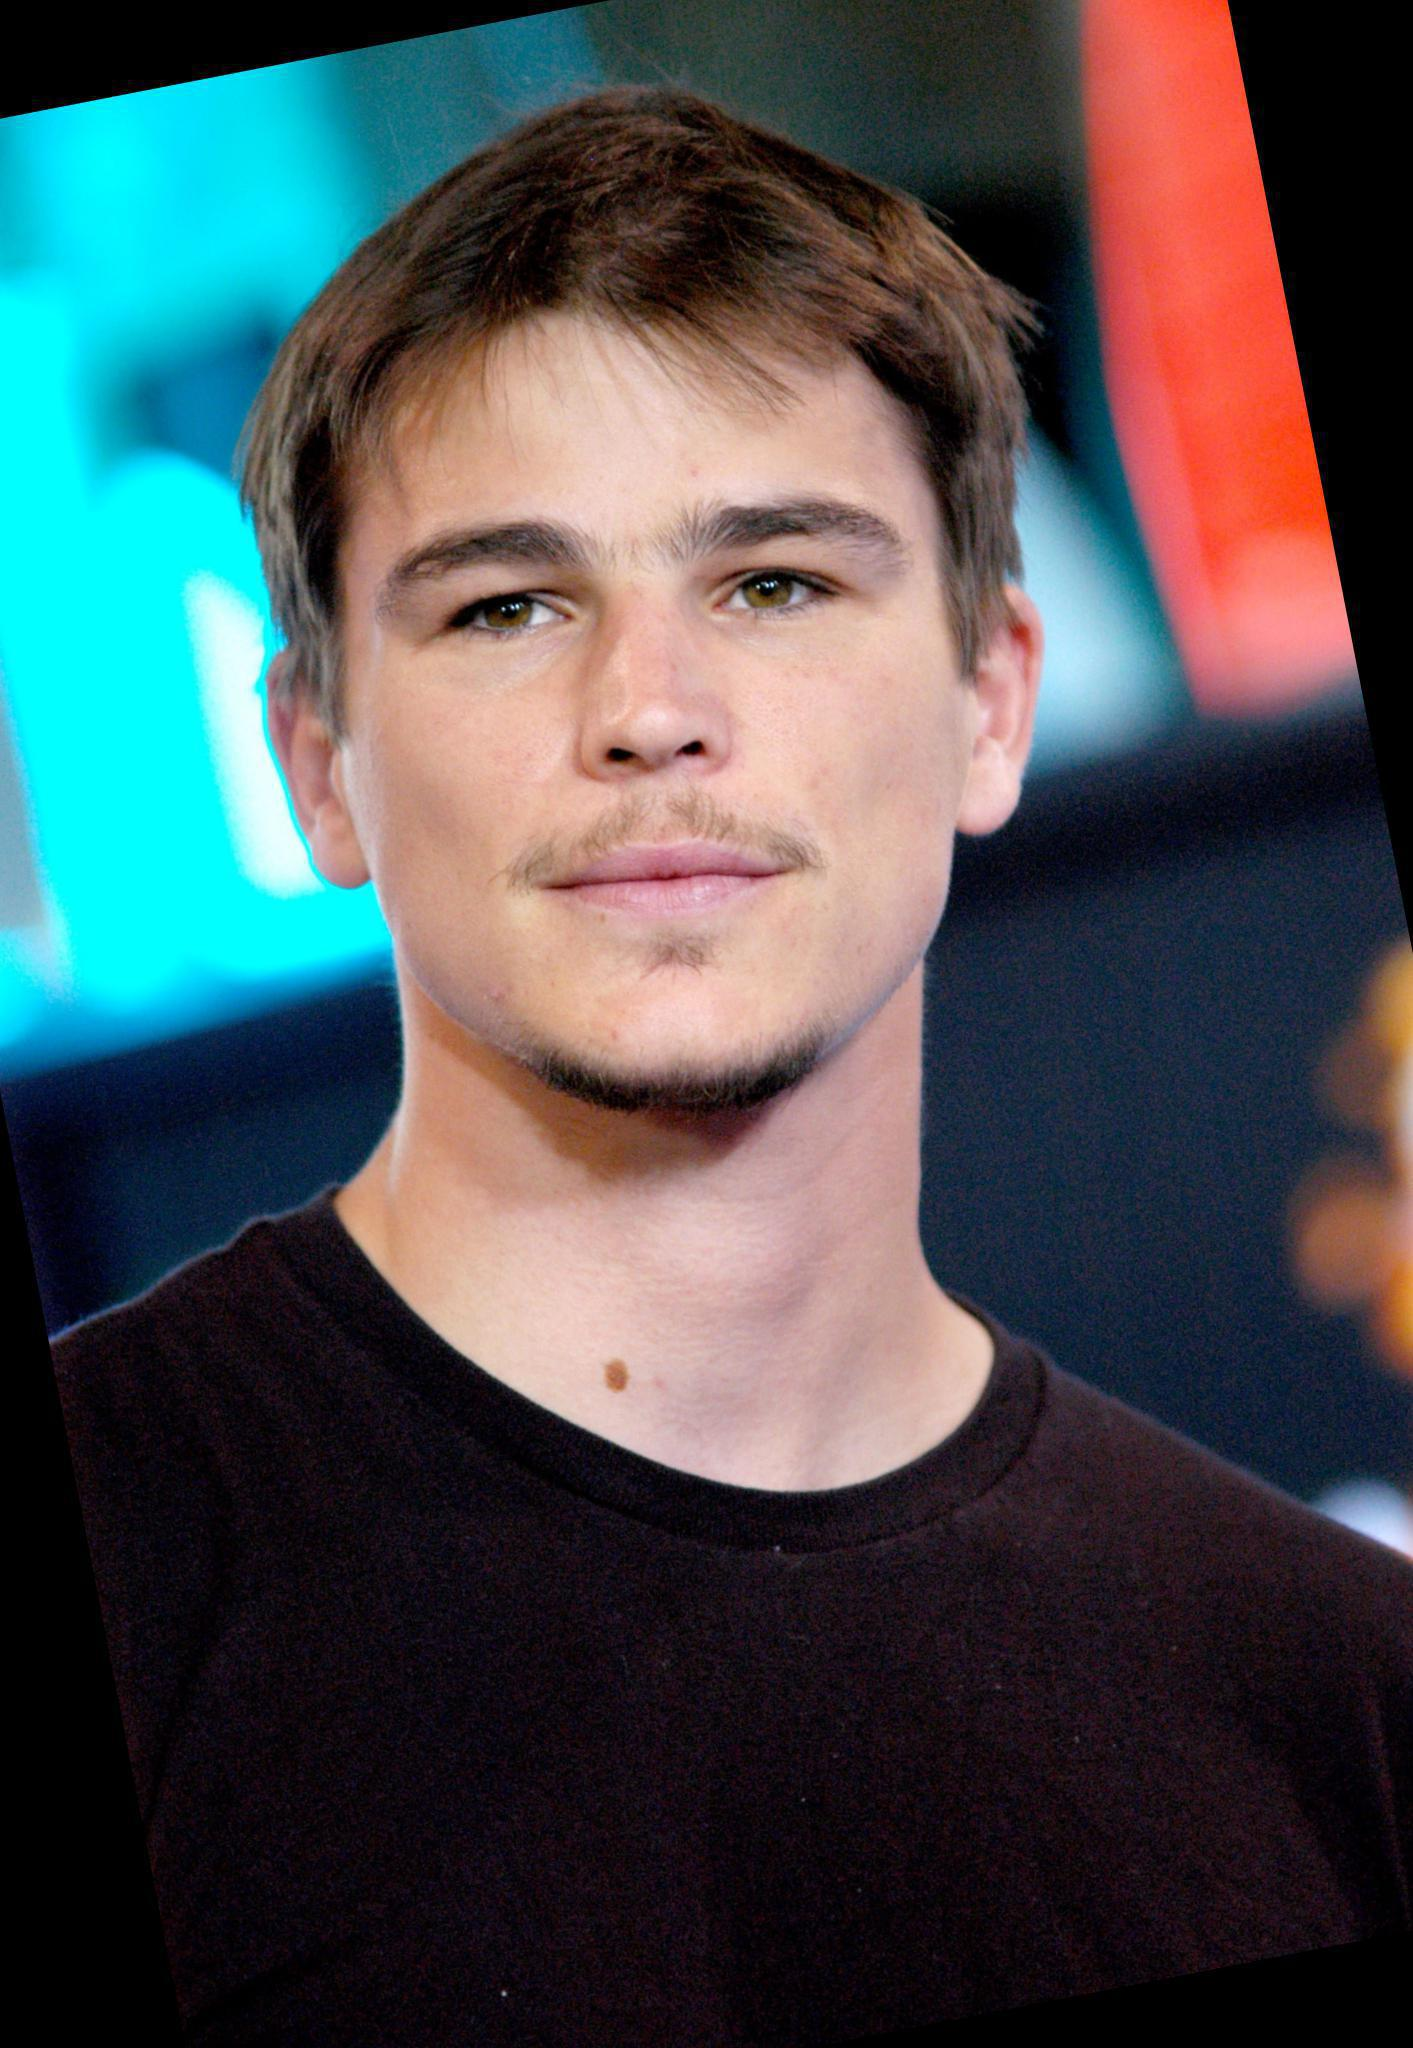Sober: (377, 361, 963, 1102)
